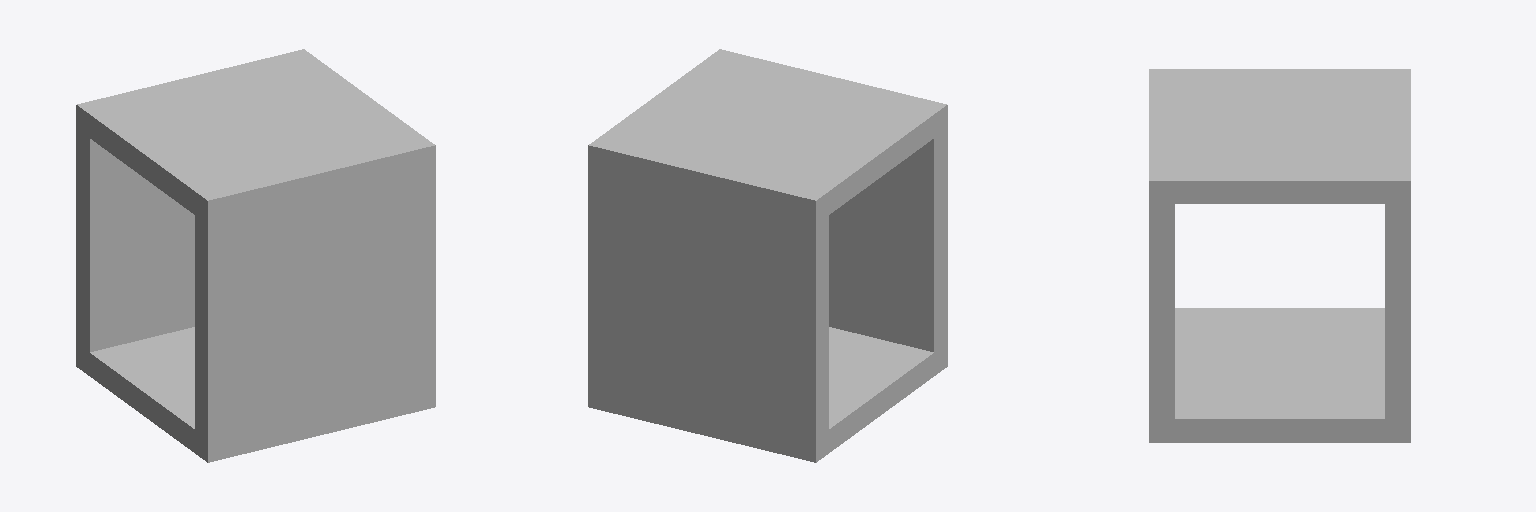
Rendered from wallSet_5.obj.
3 views of the same model, side by side, from view 1: azimuth 30°, elevation 25°; view 2: azimuth 150°, elevation 25°; view 3: azimuth 270°, elevation 25° (orthographic).
Visible parts, largest first — view 1: wallSet_5_Cube.004; view 2: wallSet_5_Cube.004; view 3: wallSet_5_Cube.004.
Boxes of the visible parts, x1=… form: wallSet_5_Cube.004: x1=76, y1=49, x2=435, y2=462; wallSet_5_Cube.004: x1=588, y1=49, x2=947, y2=462; wallSet_5_Cube.004: x1=1149, y1=69, x2=1410, y2=442.
Bounding box in the file's own units: 2 × 2.2 × 2.